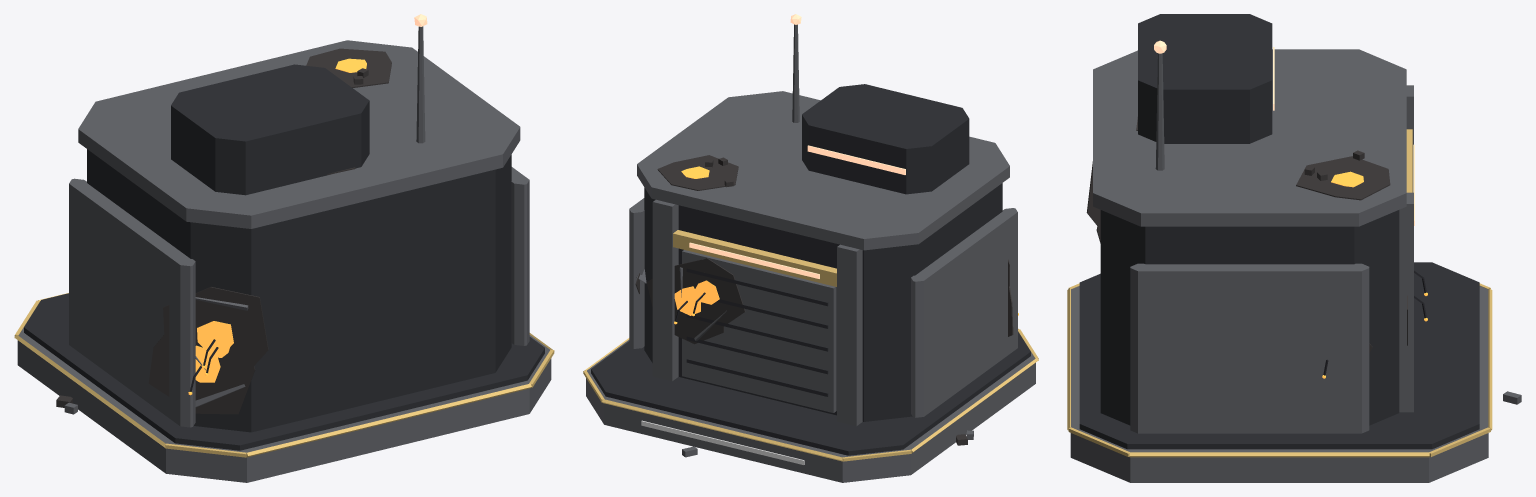
Rendered from Aegis_BarracksBay.fbx.
3 renders of one model, left to right at view 1: azimuth 30°, elevation 25°; view 2: azimuth 150°, elevation 25°; view 3: azimuth 270°, elevation 25°, orthographic. The views are drawn at different scales.
Visible parts, largest first — view 1: BB_Hangar, BB_Roof, BB2_SideArmor-1, BB2_RoofModule, BB_Plinth, BB_PlinthTop, BB2_SideArmor1, Aegis_BarracksBay_DmgScorch2, Aegis_BarracksBay_DmgScorch3, Aegis_BarracksBay_DmgScorch6, Aegis_BarracksBay_DmgScorch5, BB_PlinthTrim0 (+4 smaller); view 2: BB_Roof, BB_Hangar, BB2_SideArmor-1, BB_PlinthTop, BB2_RoofModule, BB_DoorPanel, BB_Plinth, BB_Pillar-1, BB_Pillar1, BB_DoorFrameTop, BB2_SideArmor1, Aegis_BarracksBay_DmgScorch1 (+14 smaller); view 3: BB2_SideArmor1, BB_Roof, BB_Hangar, BB_PlinthTop, BB2_RoofModule, BB_Plinth, BB_Pillar1, Aegis_BarracksBay_DmgScorch6, BB_PlinthTrim2, BB2_Antenna, BB_PlinthTrim4, BB_PlinthTrim0 (+1 smaller).
Part boxes in pixels (bbox=[...]): BB_Hangar: bbox=[87, 149, 511, 432]; BB_Roof: bbox=[78, 40, 520, 228]; BB2_SideArmor-1: bbox=[69, 178, 195, 427]; BB2_RoofModule: bbox=[171, 64, 369, 195]; BB_Plinth: bbox=[17, 327, 551, 482]; BB_PlinthTop: bbox=[24, 293, 544, 450]; BB2_SideArmor1: bbox=[511, 167, 529, 345]; Aegis_BarracksBay_DmgScorch2: bbox=[148, 312, 255, 414]; Aegis_BarracksBay_DmgScorch3: bbox=[163, 287, 268, 365]; Aegis_BarracksBay_DmgScorch6: bbox=[306, 48, 391, 87]; Aegis_BarracksBay_DmgScorch5: bbox=[195, 308, 255, 378]; BB_PlinthTrim0: bbox=[246, 383, 531, 457]; BB_Roof: bbox=[637, 91, 1009, 250]; BB_Hangar: bbox=[644, 183, 1002, 421]; BB2_SideArmor-1: bbox=[911, 208, 1017, 417]; BB_PlinthTop: bbox=[591, 332, 1030, 455]; BB2_RoofModule: bbox=[802, 84, 969, 194]; BB_DoorPanel: bbox=[682, 250, 836, 412]; BB_Plinth: bbox=[586, 340, 1035, 482]; BB_Pillar-1: bbox=[837, 244, 862, 426]; BB_Pillar1: bbox=[652, 199, 678, 381]; BB_DoorFrameTop: bbox=[673, 230, 836, 286]; BB2_SideArmor1: bbox=[629, 198, 644, 348]; Aegis_BarracksBay_DmgScorch1: bbox=[674, 258, 745, 323]; BB2_SideArmor1: bbox=[1130, 263, 1369, 433]; BB_Roof: bbox=[1093, 49, 1406, 226]; BB_Hangar: bbox=[1100, 210, 1399, 425]; BB_PlinthTop: bbox=[1079, 262, 1479, 449]; BB2_RoofModule: bbox=[1138, 14, 1272, 143]; BB_Plinth: bbox=[1070, 286, 1488, 482]; BB_Pillar1: bbox=[1399, 192, 1413, 412]; Aegis_BarracksBay_DmgScorch6: bbox=[1296, 156, 1390, 200]; BB_PlinthTrim2: bbox=[1129, 452, 1429, 457]; BB2_Antenna: bbox=[1155, 53, 1164, 170]; BB_PlinthTrim4: bbox=[1488, 288, 1492, 430]; BB_PlinthTrim0: bbox=[1067, 288, 1070, 430].
Size of the model in its own units: 3.13 by 2.85 by 3.04.
